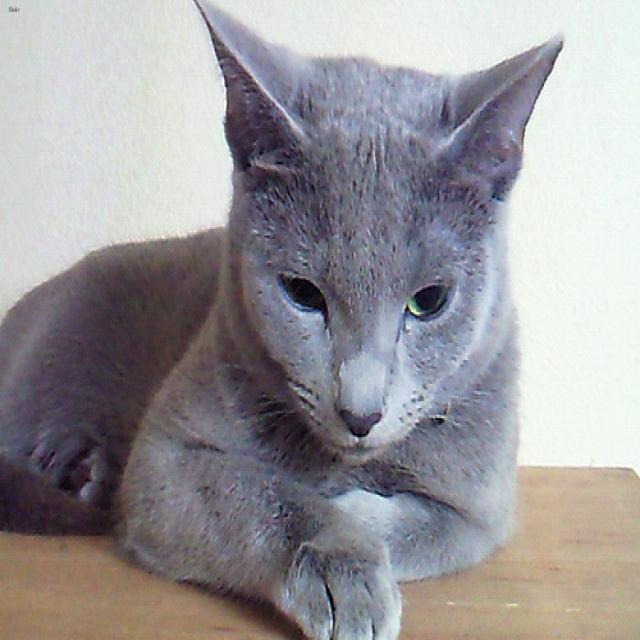cat: (191, 0, 562, 464)
